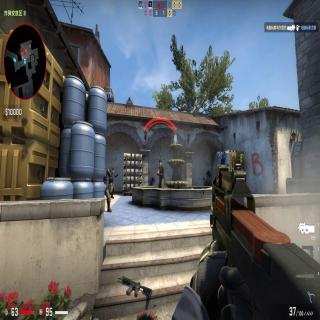T-Body: (109, 166, 118, 196)
T-Head: (111, 167, 115, 174)
